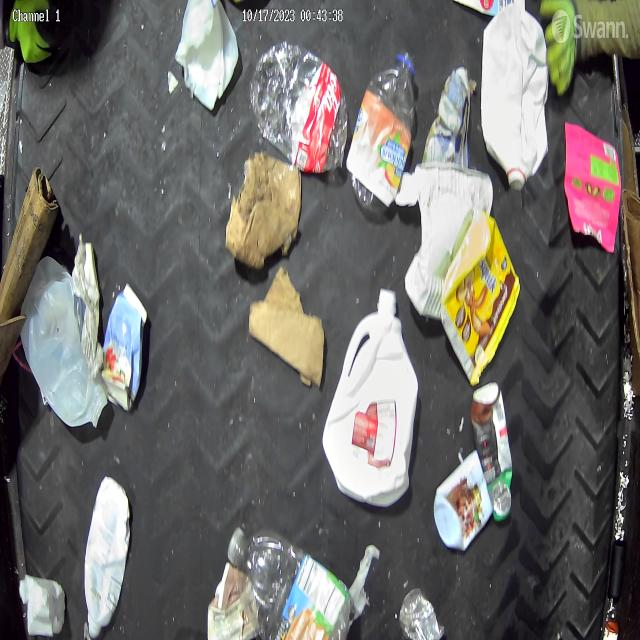milk_jug: (324, 286, 418, 510), (20, 255, 108, 428), (481, 3, 549, 193), (84, 474, 130, 639), (174, 0, 240, 110)
non_white_jug: (102, 282, 147, 412)
plastic_bottle: (227, 528, 352, 640), (250, 40, 344, 174), (347, 50, 419, 206)
